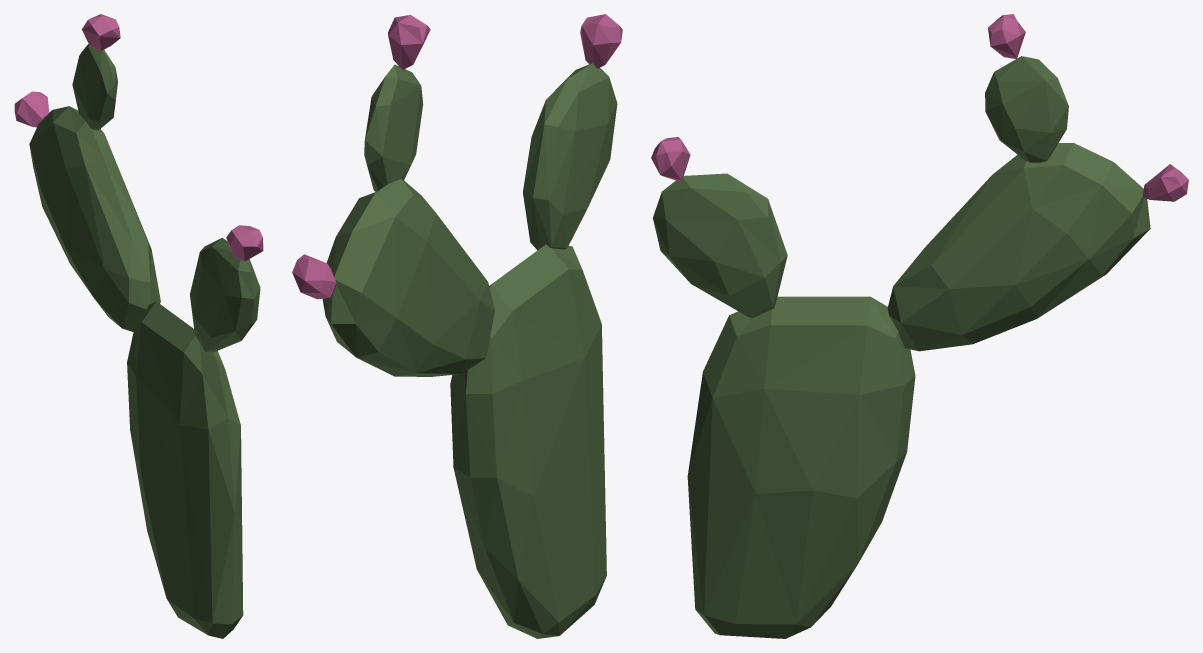
Rendered from CactusFlowers_5.lod1.glb.
3 renders of one model, left to right at view 1: azimuth 30°, elevation 25°; view 2: azimuth 150°, elevation 25°; view 3: azimuth 270°, elevation 25°, orthographic. The views are drawn at different scales.
Visible parts, largest first — view 1: CactusFlowers_5; view 2: CactusFlowers_5; view 3: CactusFlowers_5.
Boxes of the visible parts, x1,y1,x2,y2 form: CactusFlowers_5: (14, 14, 263, 638); CactusFlowers_5: (292, 14, 622, 638); CactusFlowers_5: (651, 14, 1188, 638).
Size of the model in its own units: 0.1119 by 0.938 by 0.7352.
